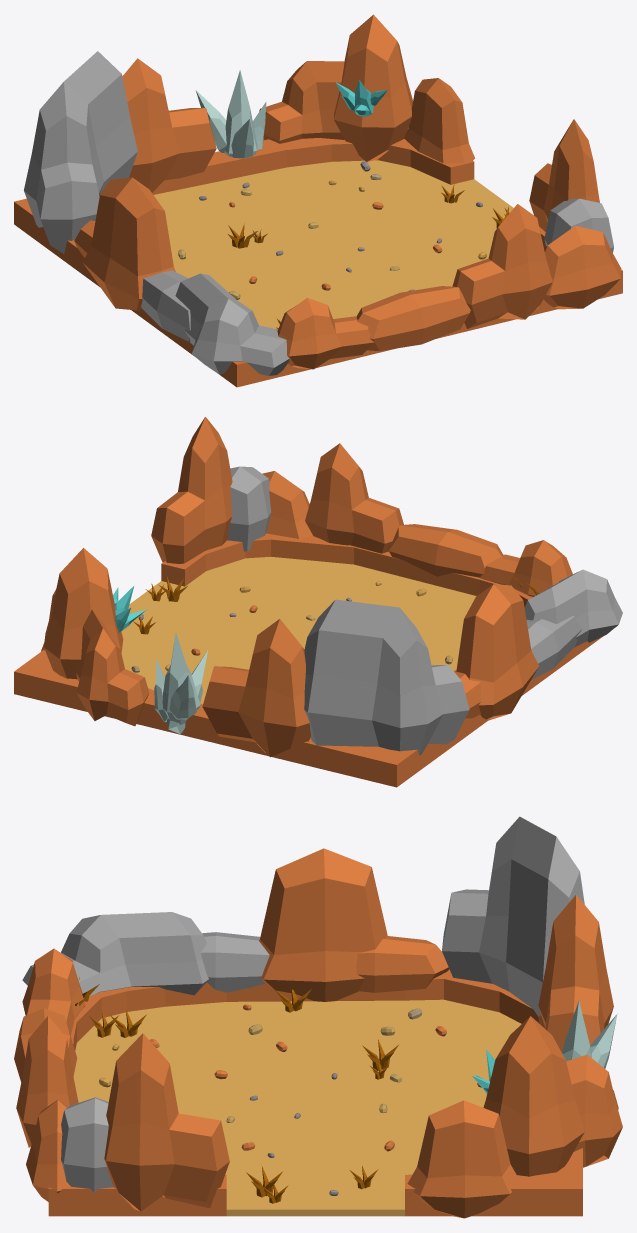
File: cave level set - 1 Way (2).fbx
The picture shows the model from 3 angles, top to bottom: view 1: azimuth 30°, elevation 25°; view 2: azimuth 150°, elevation 25°; view 3: azimuth 270°, elevation 25°; orthographic projection. The views are drawn at different scales.
Parts seen in each view (by area): view 1: land_platform_001, Cube_004, Cube_015, Cube, Cube_007, Cube_010, Cube_003, Cube_012, Cube_001, Cube_005, Cube_002, Cube_006 (+4 smaller); view 2: land_platform_001, Cube_004, Cube_010, Cube_015, Cube_009, Cube_007, Cube, Cube_001, Cube_003, Cube_012, Cube_002, Cube_011 (+4 smaller); view 3: land_platform_001, Cube_004, Cube_015, Cube_009, Cube, Cube_003, Cube_006, Cube_010, Cube_007, Cube_013, Cube_001, Cube_008 (+5 smaller).
Boxes of the visible parts, bbox=[...] form: land_platform_001: bbox=[14, 127, 622, 387]; Cube_004: bbox=[24, 51, 137, 253]; Cube_015: bbox=[82, 177, 175, 311]; Cube: bbox=[334, 14, 412, 161]; Cube_007: bbox=[452, 204, 552, 328]; Cube_010: bbox=[122, 58, 216, 192]; Cube_003: bbox=[175, 273, 289, 375]; Cube_012: bbox=[356, 286, 470, 351]; Cube_001: bbox=[259, 61, 344, 143]; Cube_005: bbox=[543, 225, 621, 309]; Cube_002: bbox=[277, 297, 374, 369]; Cube_006: bbox=[404, 78, 474, 163]; land_platform_001: bbox=[14, 533, 617, 787]; Cube_004: bbox=[304, 599, 469, 755]; Cube_010: bbox=[202, 619, 310, 757]; Cube_015: bbox=[456, 584, 539, 720]; Cube_009: bbox=[151, 417, 232, 563]; Cube_007: bbox=[305, 443, 403, 553]; Cube: bbox=[44, 548, 146, 679]; Cube_001: bbox=[76, 609, 149, 726]; Cube_003: bbox=[524, 569, 622, 647]; Cube_012: bbox=[387, 524, 502, 577]; Cube_002: bbox=[480, 540, 572, 596]; Cube_011: bbox=[154, 632, 207, 734]; land_platform_001: bbox=[48, 969, 582, 1216]; Cube_004: bbox=[442, 816, 584, 1016]; Cube_015: bbox=[259, 848, 388, 1001]; Cube_009: bbox=[104, 1033, 229, 1211]; Cube: bbox=[472, 1016, 584, 1176]; Cube_003: bbox=[22, 912, 208, 995]; Cube_006: bbox=[407, 1100, 519, 1218]; Cube_010: bbox=[538, 895, 613, 1052]; Cube_007: bbox=[16, 1016, 78, 1147]; Cube_013: bbox=[356, 936, 449, 992]; Cube_001: bbox=[566, 1054, 622, 1167]; Cube_008: bbox=[61, 1097, 113, 1192].
Bounding box in the file's own units: 16.66 × 6.27 × 17.29.
